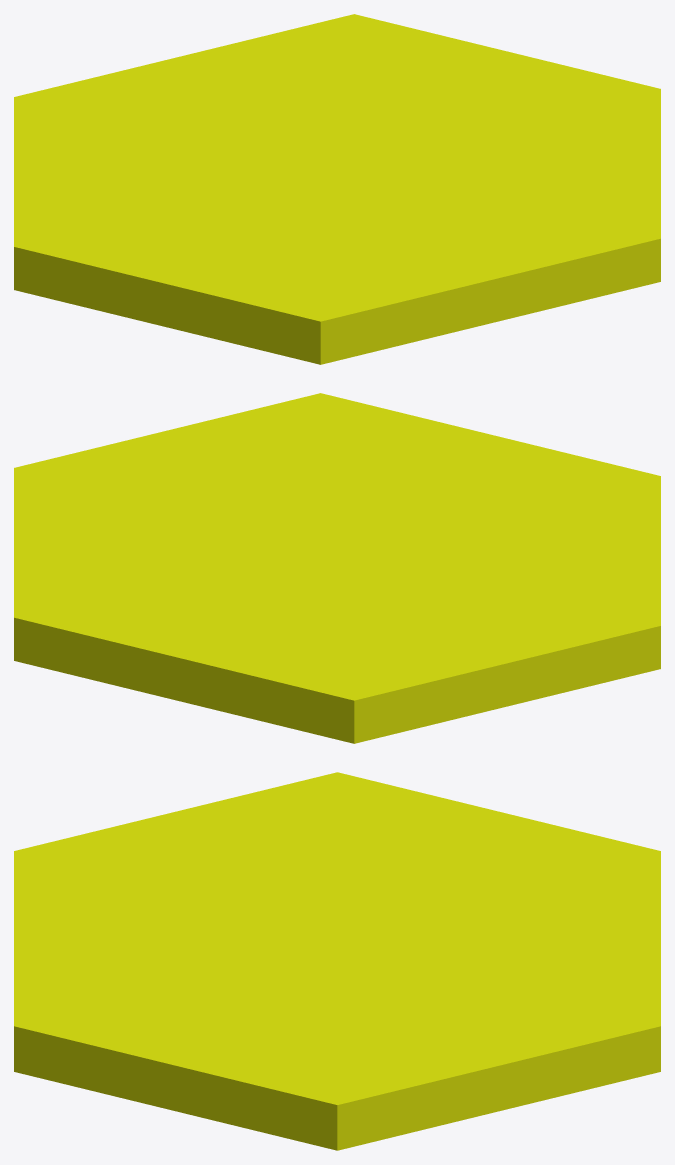
File: Module_Ss_ass_hex1.FBX
3 views of the same model, one above another, from view 1: azimuth 30°, elevation 25°; view 2: azimuth 150°, elevation 25°; view 3: azimuth 270°, elevation 25° (orthographic). The views are drawn at different scales.
Parts seen in each view (by area): view 1: Module_Ss_ass_hex1; view 2: Module_Ss_ass_hex1; view 3: Module_Ss_ass_hex1.
Boxes of the visible parts, x1=… form: Module_Ss_ass_hex1: x1=14, y1=14, x2=660, y2=364; Module_Ss_ass_hex1: x1=14, y1=393, x2=660, y2=743; Module_Ss_ass_hex1: x1=14, y1=772, x2=660, y2=1150.
Size of the model in its own units: 37.24 by 2.38 by 30.58.
